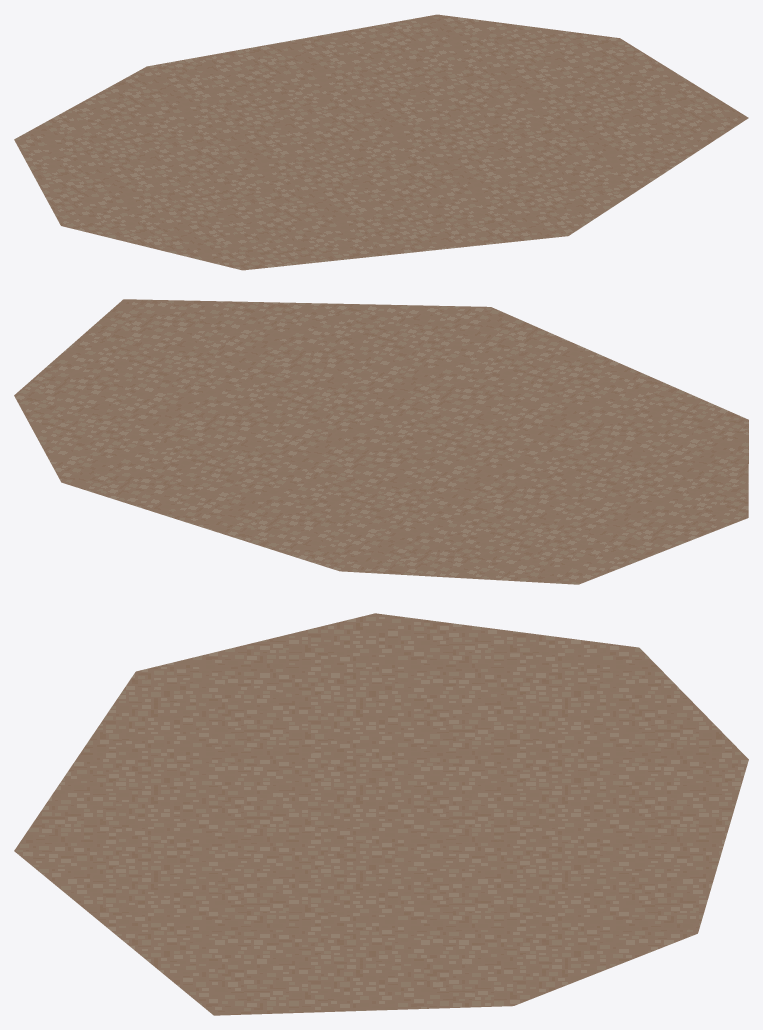
File: kd_stage_13612f_4_69_bounded.glb
3 views of the same model, one above another, from view 1: azimuth 30°, elevation 25°; view 2: azimuth 150°, elevation 25°; view 3: azimuth 270°, elevation 25° (orthographic). The views are drawn at different scales.
Parts seen in each view (by area): view 1: kd_stage_13612f_4_69_bounded; view 2: kd_stage_13612f_4_69_bounded; view 3: kd_stage_13612f_4_69_bounded.
Part boxes in pixels (left/top/right/bottom): kd_stage_13612f_4_69_bounded: left=14, top=14, right=748, bottom=270; kd_stage_13612f_4_69_bounded: left=14, top=299, right=748, bottom=584; kd_stage_13612f_4_69_bounded: left=14, top=613, right=748, bottom=1015.
Size of the model in its own units: 7.86 by 1.19e-07 by 6.06.
1 material, 1 textured.
